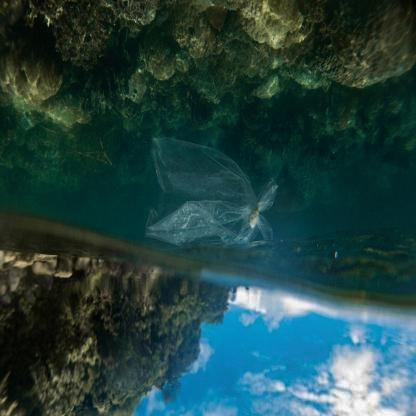pbag: (142, 135, 279, 260)
